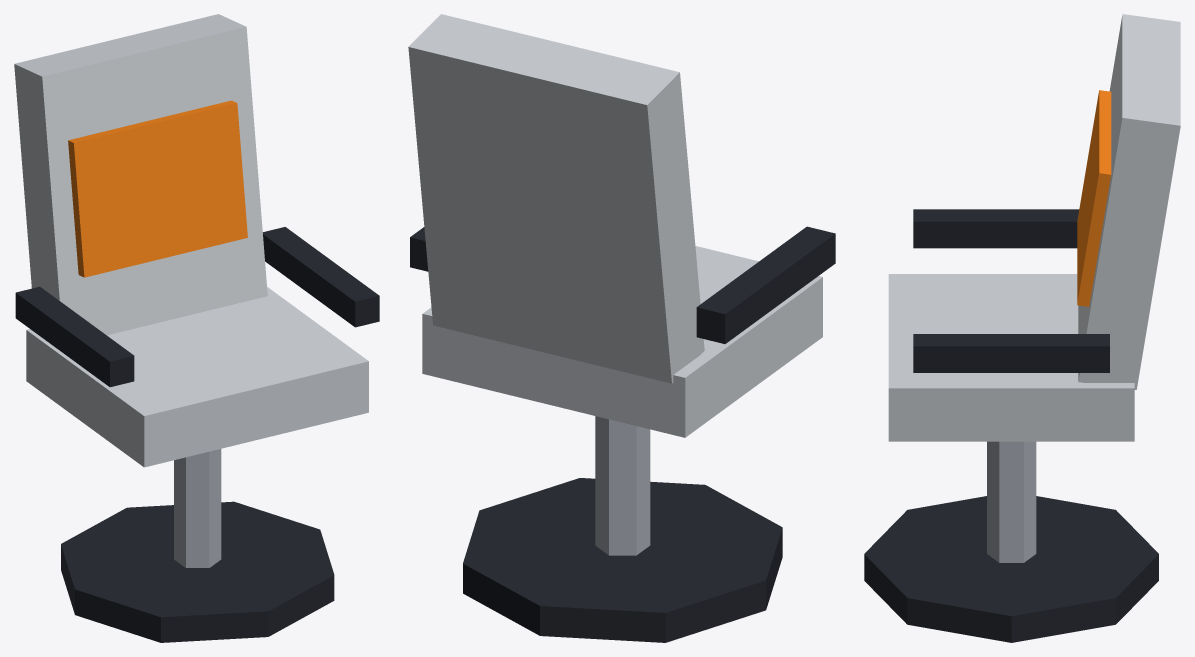
The model's file is console_chair.glb.
3 views of the same model, side by side, from view 1: azimuth 30°, elevation 25°; view 2: azimuth 150°, elevation 25°; view 3: azimuth 270°, elevation 25° (orthographic). The views are drawn at different scales.
Parts seen in each view (by area): view 1: console_chair; view 2: console_chair; view 3: console_chair.
Part boxes in pixels (<box>): console_chair: <box>14,14,379,642</box>; console_chair: <box>408,14,835,642</box>; console_chair: <box>864,14,1180,642</box>.
Size of the model in its own units: 0.66 by 1.16 by 0.6442.
